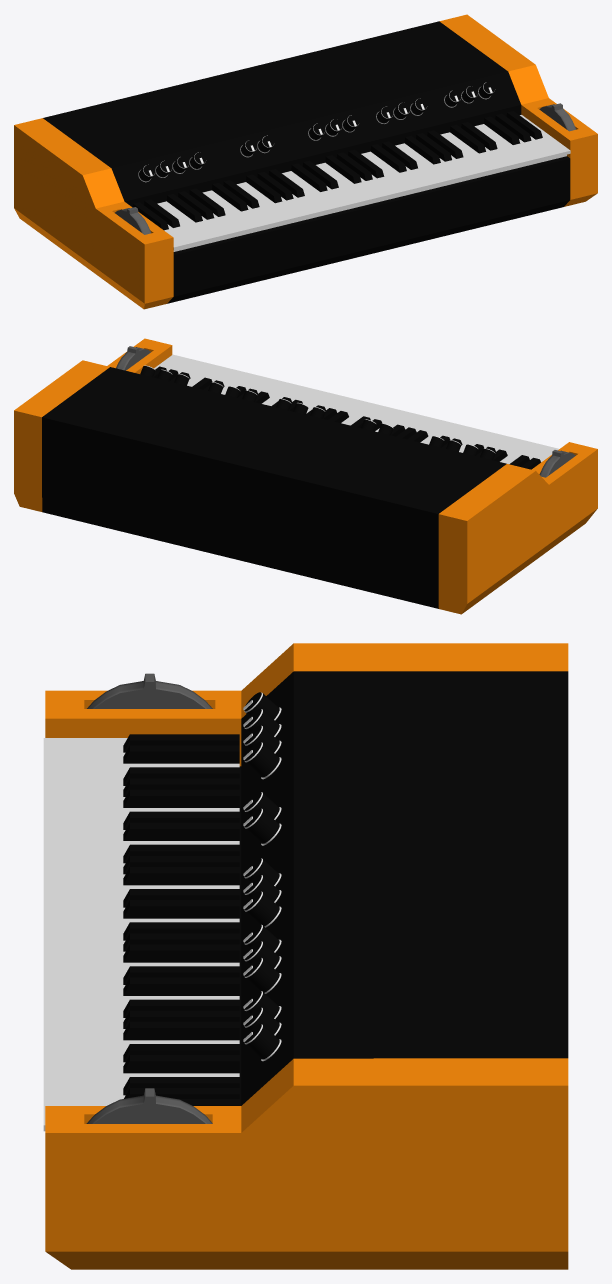
File: Synthesizer.glb
The picture shows the model from 3 angles, top to bottom: view 1: azimuth 30°, elevation 25°; view 2: azimuth 150°, elevation 25°; view 3: azimuth 270°, elevation 25°; orthographic projection. The views are drawn at different scales.
Visible parts, largest first — view 1: Synthesizer, C4, C3, F1, C5, C2, F3, F2, F5, F4, Vibrato Modulation, Circle (+15 smaller); view 2: Synthesizer, Circle, Vibrato Modulation; view 3: Synthesizer, Vibrato Modulation, Circle, A+5, D+5, A+3, D+3, D+1, A+4, D+4, A+2, D+2 (+53 smaller).
Part boxes in pixels (x1,y1,x2,y2): Synthesizer: (14, 14, 597, 309); C4: (363, 151, 423, 194); C3: (284, 171, 343, 213); F1: (159, 201, 219, 244); C5: (442, 132, 502, 175); C2: (204, 190, 264, 233); F3: (318, 162, 377, 205); F2: (239, 182, 298, 224); F5: (476, 124, 536, 166); F4: (397, 143, 457, 186); Vibrato Modulation: (539, 103, 575, 131); Circle: (115, 207, 150, 234); Synthesizer: (14, 338, 597, 614); Circle: (539, 450, 575, 477); Vibrato Modulation: (116, 346, 150, 370); Synthesizer: (45, 643, 568, 1269); Vibrato Modulation: (86, 1088, 212, 1123); Circle: (87, 673, 212, 708); A+5: (123, 1021, 239, 1040); D+5: (123, 1055, 239, 1073); A+3: (123, 867, 239, 885); D+3: (123, 900, 239, 918); D+1: (123, 745, 239, 763); A+4: (123, 944, 239, 962); D+4: (123, 977, 239, 995); A+2: (123, 789, 239, 807); D+2: (123, 822, 239, 840).
Size of the model in its own units: 4 by 0.82 by 2.01.
